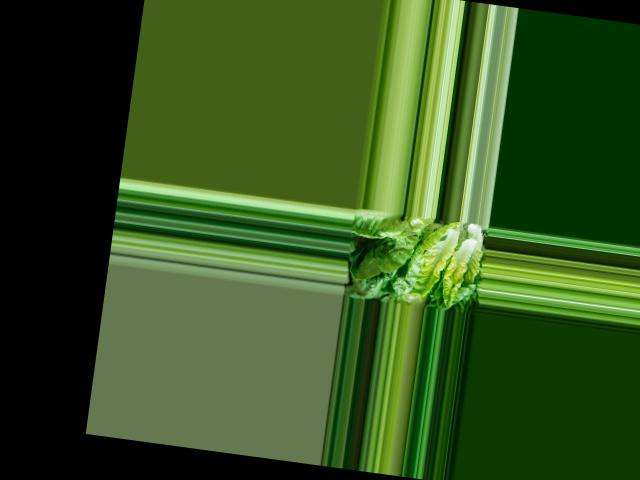lettuce: (389, 212, 487, 308)
